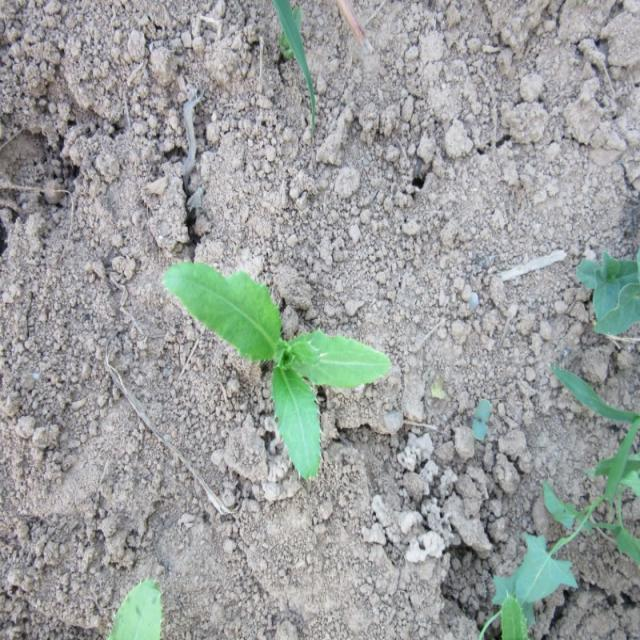cs: (165, 258, 393, 481)
